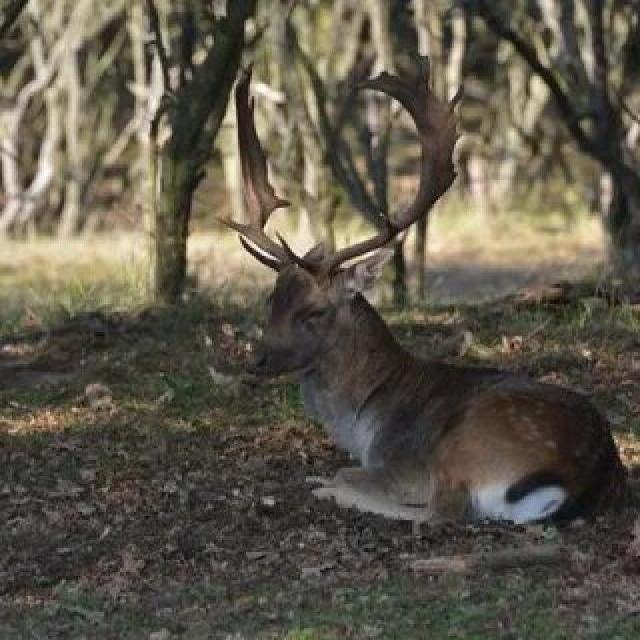deer: (162, 146, 640, 622)
